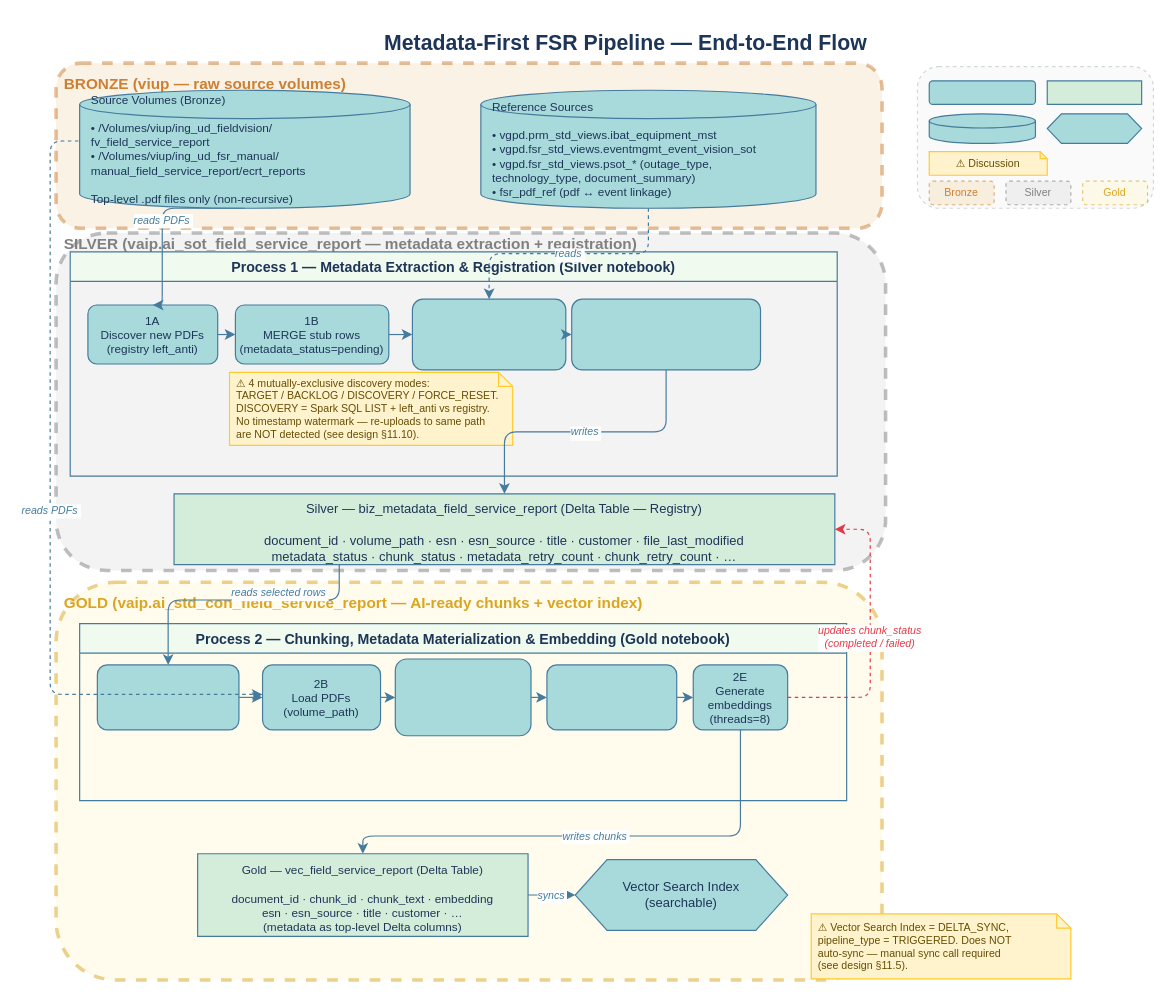
This 1174x1002 diagram has some shape labels left out. Each missing label, with the centre of its shape:
"1C Extract metadata LLM normalize IBAT / EV / PSOT enrich" goes at point 488,334.
"1D Write one metadata row per document to registry chunk_status = pending" goes at point 666,334.
"2A Select pending docs from registry (chunk_status)" goes at point 167,697.
"2C Extract text hierarchical_semantic _chunking_from_snapshot" goes at point 462,697.
"2D Materialize metadata onto chunk rows" goes at point 611,697.
"Delta table" goes at point 1094,92.
"External store" goes at point 981,128.
"Notebook step" goes at point 981,92.
"Search index" goes at point 1094,128.
